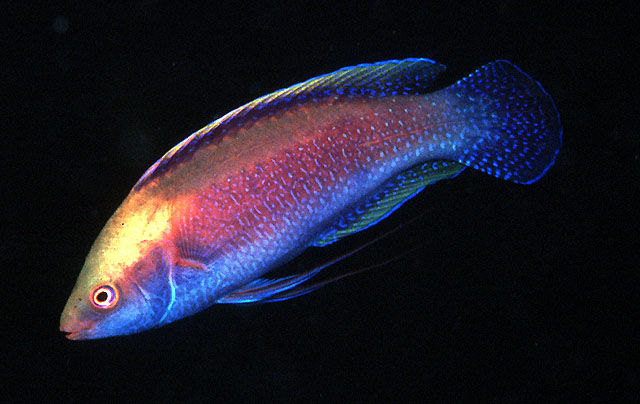fish: (59, 58, 564, 339)
